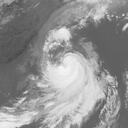cyclone: (41, 30, 99, 107)
